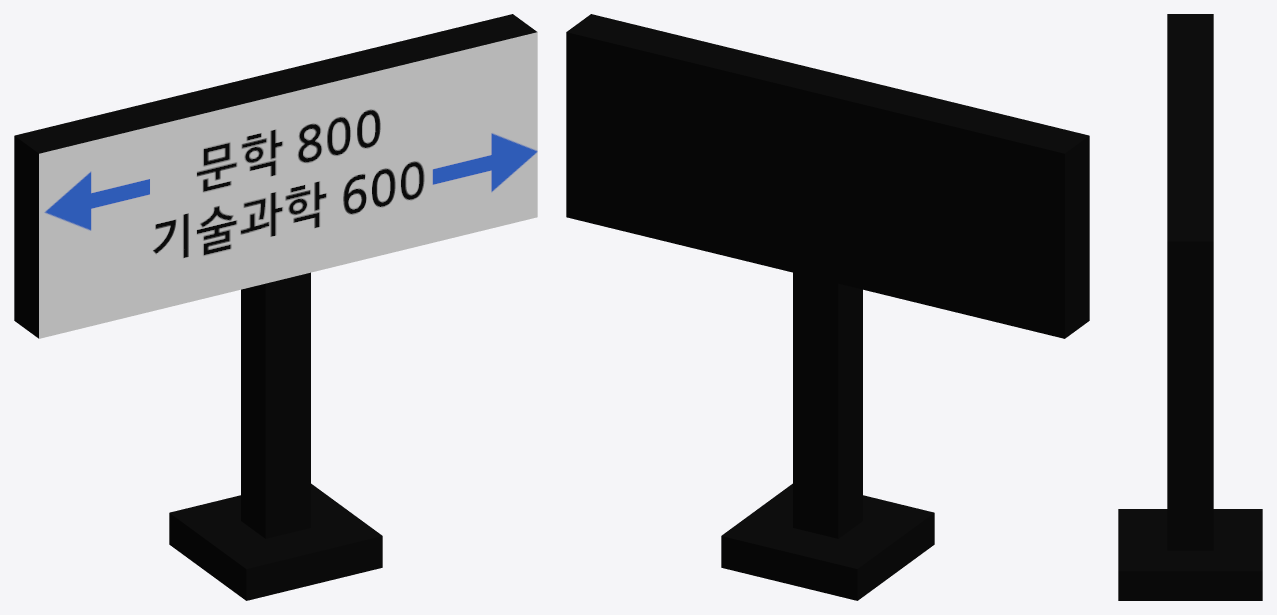
The model's file is info_3f 1.fbx.
3 views of the same model, side by side, from view 1: azimuth 30°, elevation 25°; view 2: azimuth 150°, elevation 25°; view 3: azimuth 270°, elevation 25° (orthographic). The views are drawn at different scales.
Visible parts, largest first — view 1: pCube1; view 2: pCube1; view 3: pCube1.
Part boxes in pixels (x1,y1,x2,y2): pCube1: (14, 14, 537, 600); pCube1: (566, 14, 1089, 600); pCube1: (1118, 14, 1262, 600).
Bounding box in the file's own units: 0.00672 × 0.00608 × 0.0018.
Materials: 1 (1 with a texture image).
